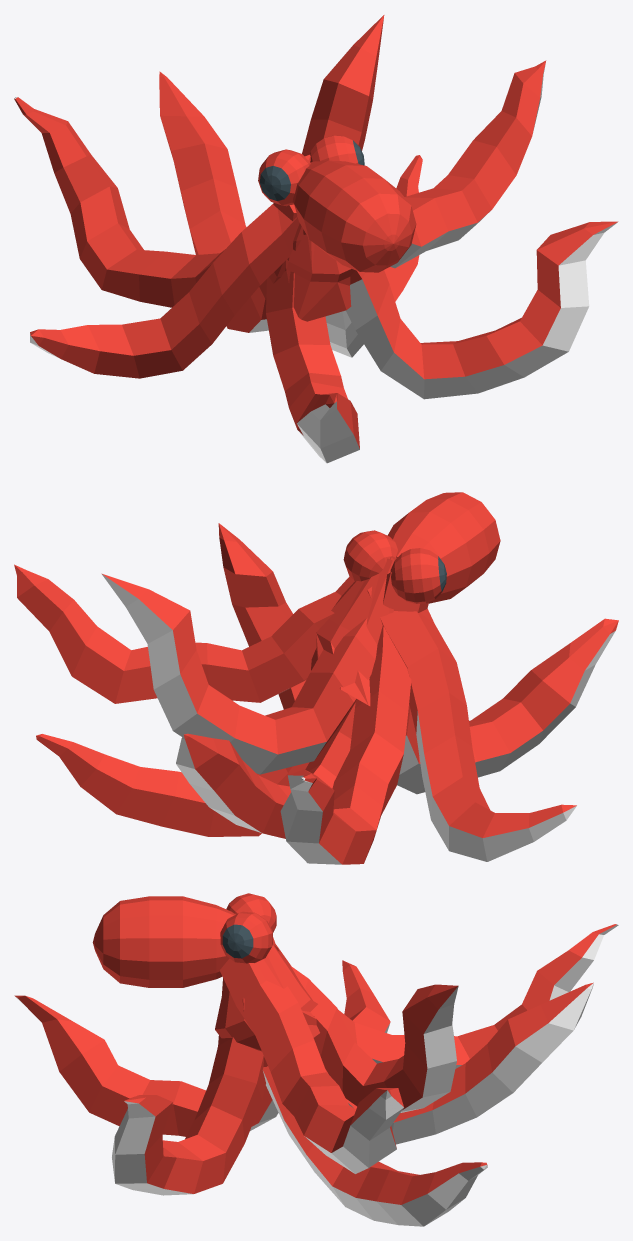
Rendered from octopus.fbx.
3 views of the same model, one above another, from view 1: azimuth 30°, elevation 25°; view 2: azimuth 150°, elevation 25°; view 3: azimuth 270°, elevation 25° (orthographic). The views are drawn at different scales.
Visible parts, largest first — view 1: group_224870592, group_1628491016, group_270127215, group_652527150, mesh_1445022660, group_1397382454, group_356780838, group_1219829865, mesh_42711055, group_295158179, mesh_1890692351, mesh_1984784645; view 2: group_1219829865, group_1628491016, group_652527150, group_270127215, group_356780838, group_1397382454, group_295158179, mesh_1445022660, group_224870592, mesh_42711055, mesh_1890692351, mesh_1984784645; view 3: group_652527150, group_224870592, group_1219829865, mesh_1445022660, group_1397382454, group_356780838, group_295158179, group_270127215, mesh_42711055, mesh_1984784645, group_1628491016, mesh_1890692351.
Boxes of the visible parts, x1=… form: group_224870592: x1=346, y1=221, x2=618, y2=399; group_1628491016: x1=30, y1=204, x2=299, y2=378; group_270127215: x1=14, y1=97, x2=225, y2=307; group_652527150: x1=390, y1=60, x2=546, y2=268; mesh_1445022660: x1=293, y1=160, x2=416, y2=272; group_1397382454: x1=159, y1=71, x2=297, y2=332; group_356780838: x1=266, y1=223, x2=359, y2=463; group_1219829865: x1=302, y1=15, x2=384, y2=161; mesh_42711055: x1=286, y1=154, x2=354, y2=321; group_295158179: x1=303, y1=155, x2=422, y2=357; mesh_1890692351: x1=258, y1=149, x2=310, y2=206; mesh_1984784645: x1=309, y1=135, x2=364, y2=165; group_1219829865: x1=101, y1=557, x2=394, y2=774; group_1628491016: x1=367, y1=587, x2=576, y2=861; group_652527150: x1=14, y1=564, x2=354, y2=703; group_270127215: x1=280, y1=625, x2=411, y2=864; group_356780838: x1=397, y1=618, x2=618, y2=794; group_1397382454: x1=176, y1=572, x2=428, y2=838; group_295158179: x1=36, y1=734, x2=309, y2=836; mesh_1445022660: x1=387, y1=492, x2=500, y2=603; group_224870592: x1=218, y1=523, x2=306, y2=709; mesh_42711055: x1=311, y1=558, x2=394, y2=705; mesh_1890692351: x1=390, y1=548, x2=446, y2=604; mesh_1984784645: x1=343, y1=530, x2=397, y2=581; group_652527150: x1=220, y1=958, x2=403, y2=1173; group_224870592: x1=112, y1=978, x2=265, y2=1195; group_1219829865: x1=291, y1=966, x2=458, y2=1112; mesh_1445022660: x1=92, y1=896, x2=235, y2=987; group_1397382454: x1=273, y1=937, x2=593, y2=1144; group_356780838: x1=14, y1=995, x2=278, y2=1136; group_295158179: x1=263, y1=1066, x2=487, y2=1226; group_270127215: x1=338, y1=924, x2=618, y2=1068; mesh_42711055: x1=215, y1=940, x2=319, y2=1066; mesh_1984784645: x1=220, y1=911, x2=273, y2=963; group_1628491016: x1=274, y1=945, x2=390, y2=1032; mesh_1890692351: x1=226, y1=893, x2=276, y2=932.
Bounding box in the file's own units: 142 × 69.62 × 145.
